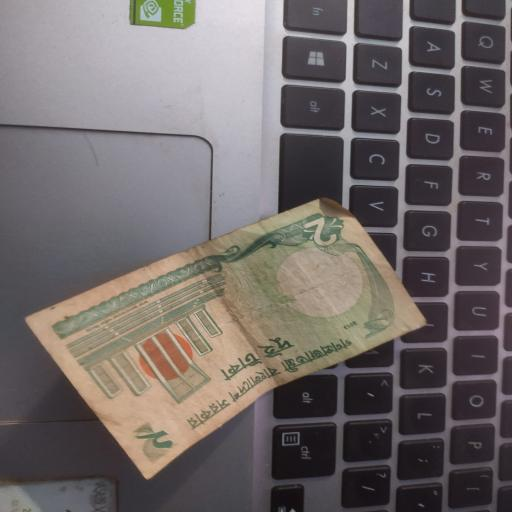2taka: (38, 202, 430, 482)
